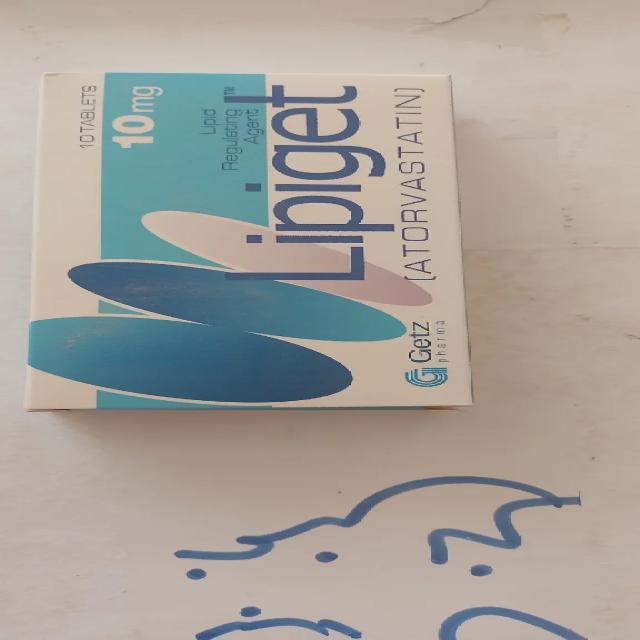drug-name: (222, 78, 396, 282)
